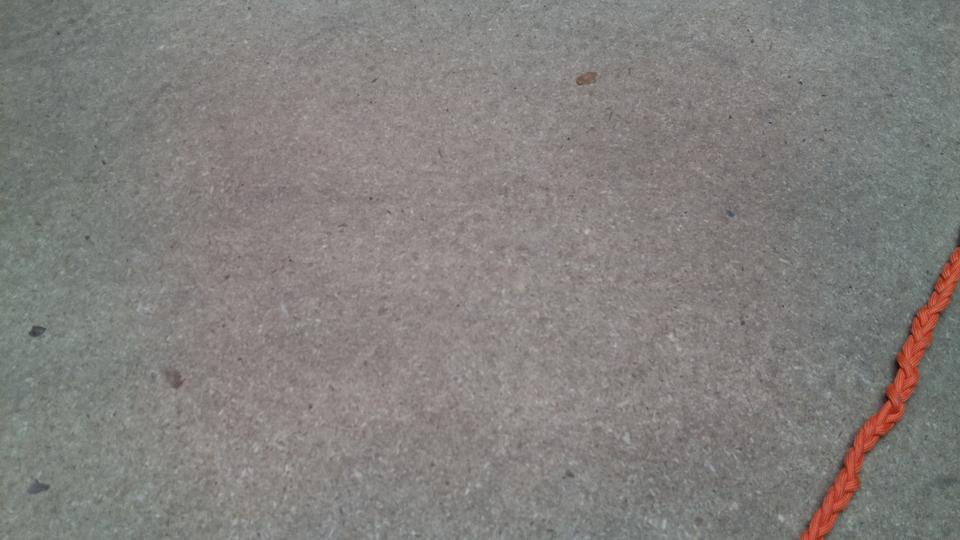rope: (797, 249, 955, 540)
